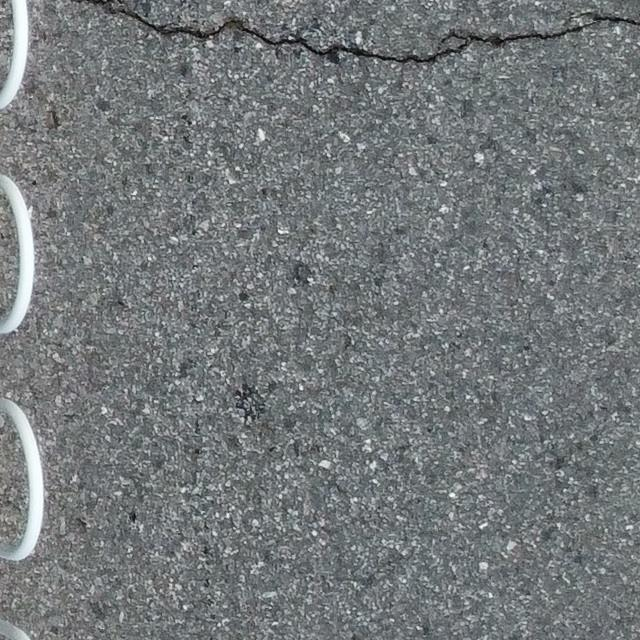TransverseCrack: (71, 1, 640, 65)
